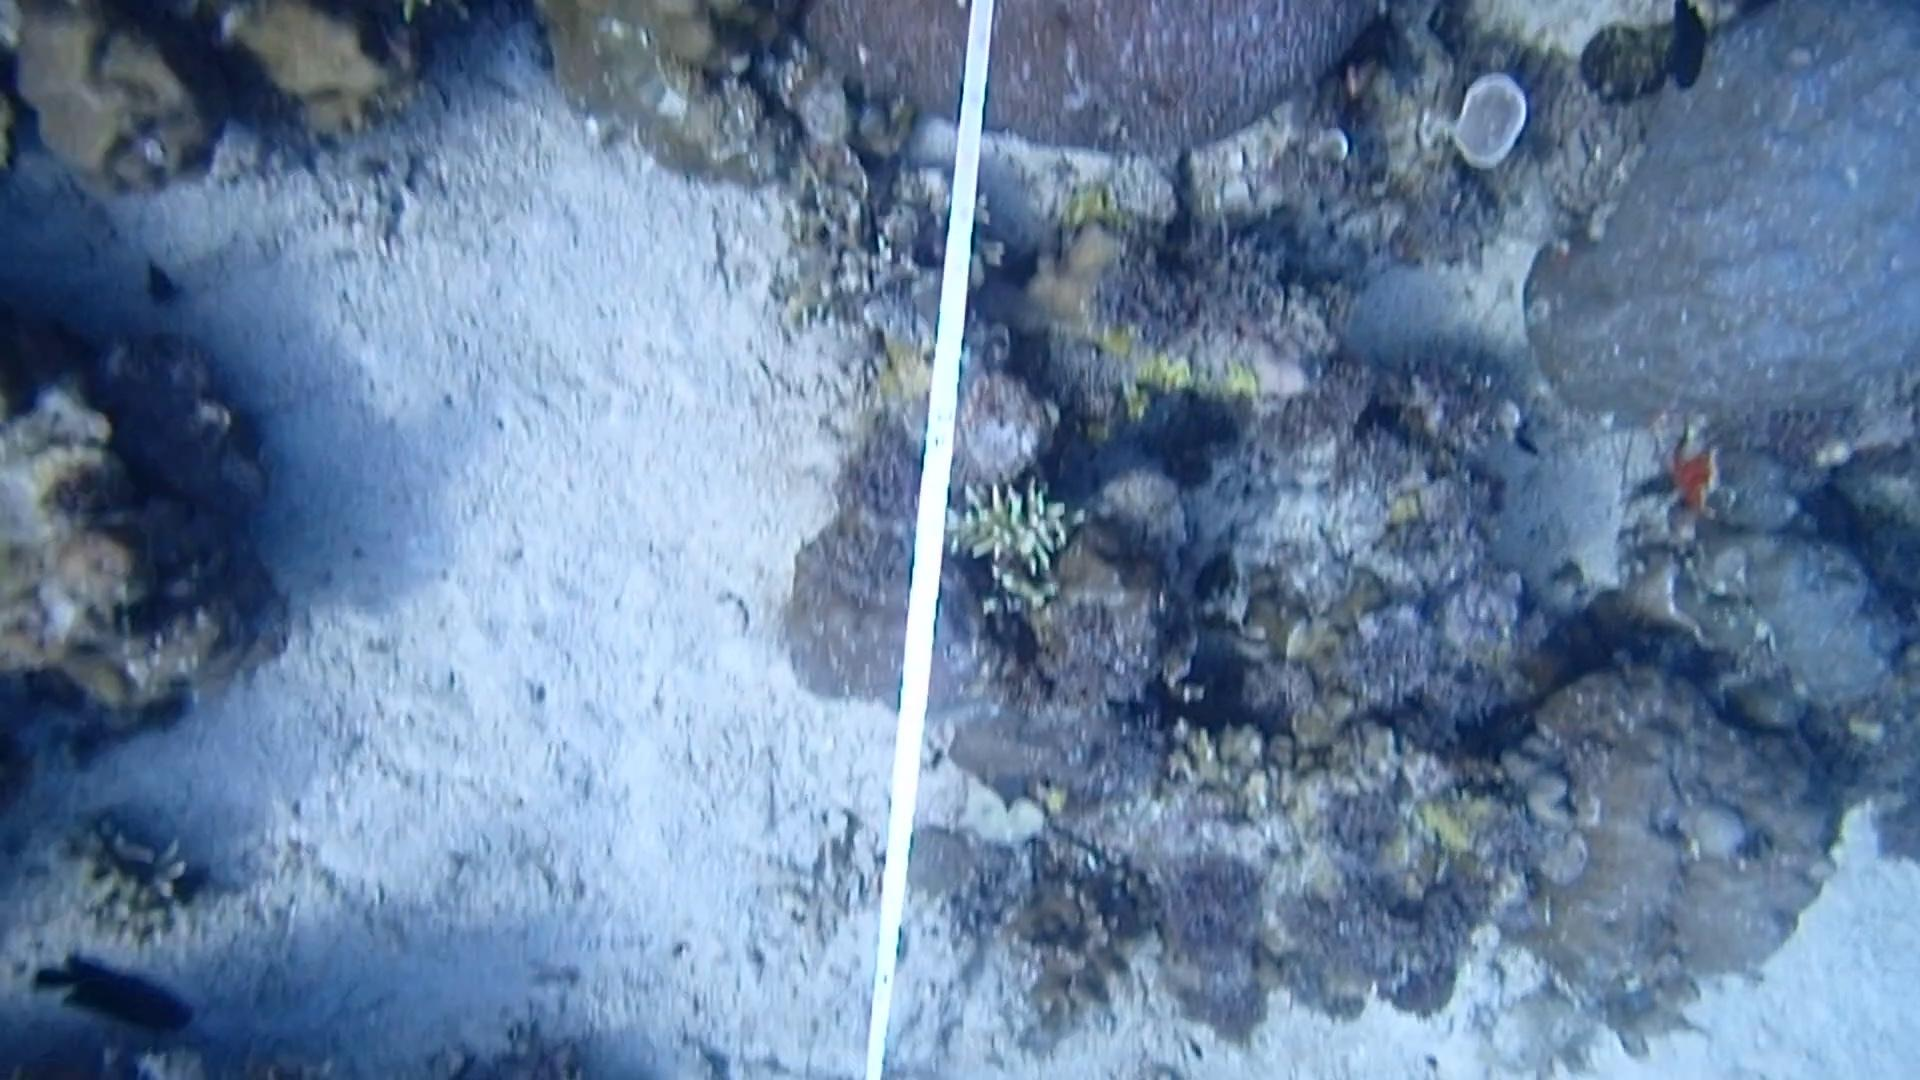Dark Fish: (37, 945, 199, 1039), (1656, 8, 1716, 96)
